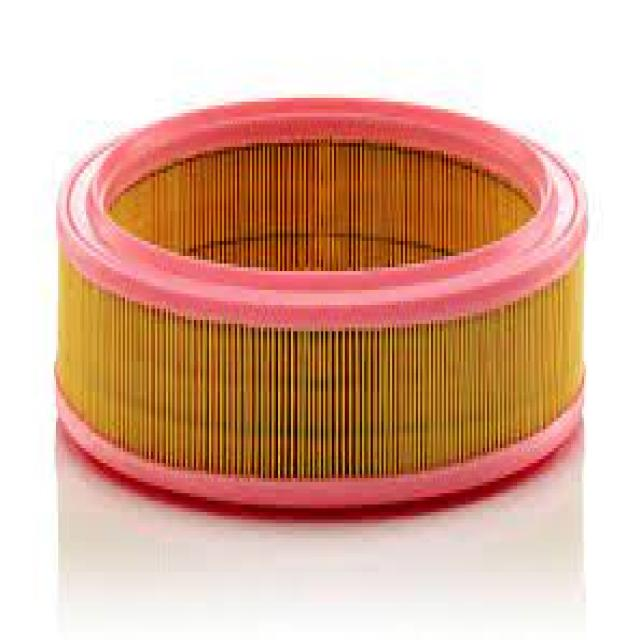air_filter: (58, 101, 587, 513)
